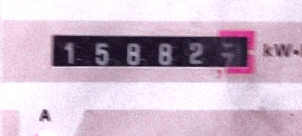1: (62, 39, 76, 65)
2: (188, 39, 204, 65)
5: (93, 40, 109, 65)
7: (219, 49, 233, 65)
8: (124, 41, 141, 65), (156, 39, 172, 64)
screen: (37, 19, 264, 83)
